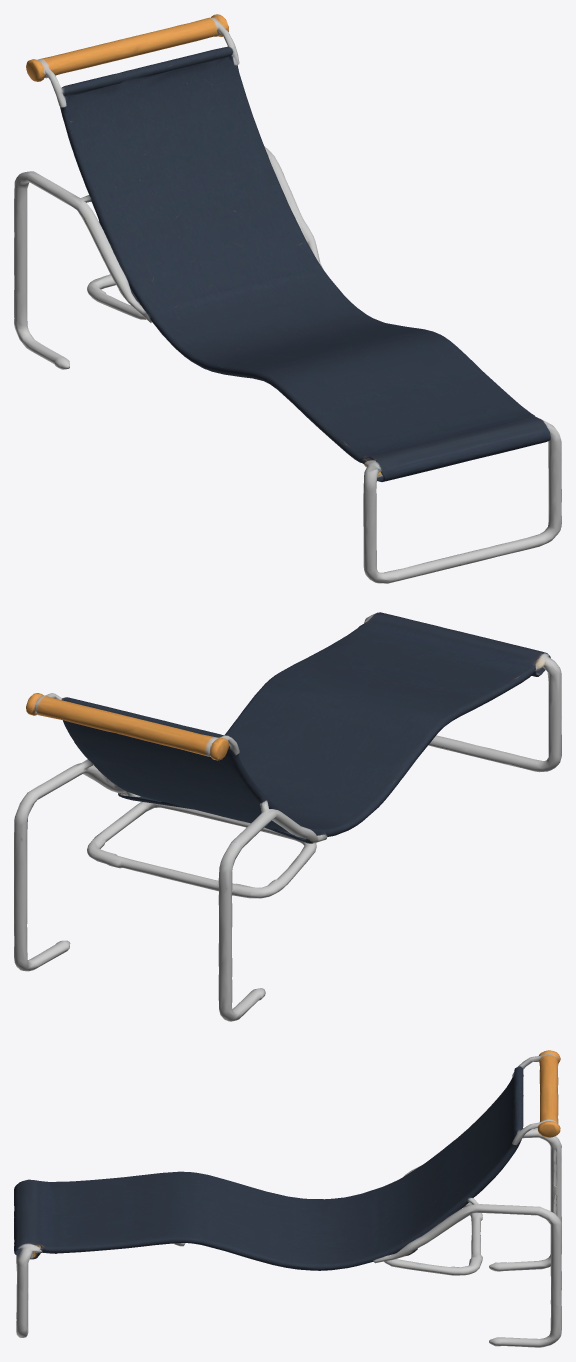
The model's file is bauhaus-pool-lounger.glb.
3 views of the same model, one above another, from view 1: azimuth 30°, elevation 25°; view 2: azimuth 150°, elevation 25°; view 3: azimuth 270°, elevation 25° (orthographic). The views are drawn at different scales.
Parts seen in each view (by area): view 1: world; view 2: world; view 3: world.
Boxes of the visible parts, left/top/right/bottom form: world: left=14, top=14, right=561, bottom=583; world: left=14, top=612, right=561, bottom=1021; world: left=14, top=1050, right=561, bottom=1347.
Bounding box in the file's own units: 0.68 × 0.85 × 1.9.
Materials: 1 (1 with a texture image).
